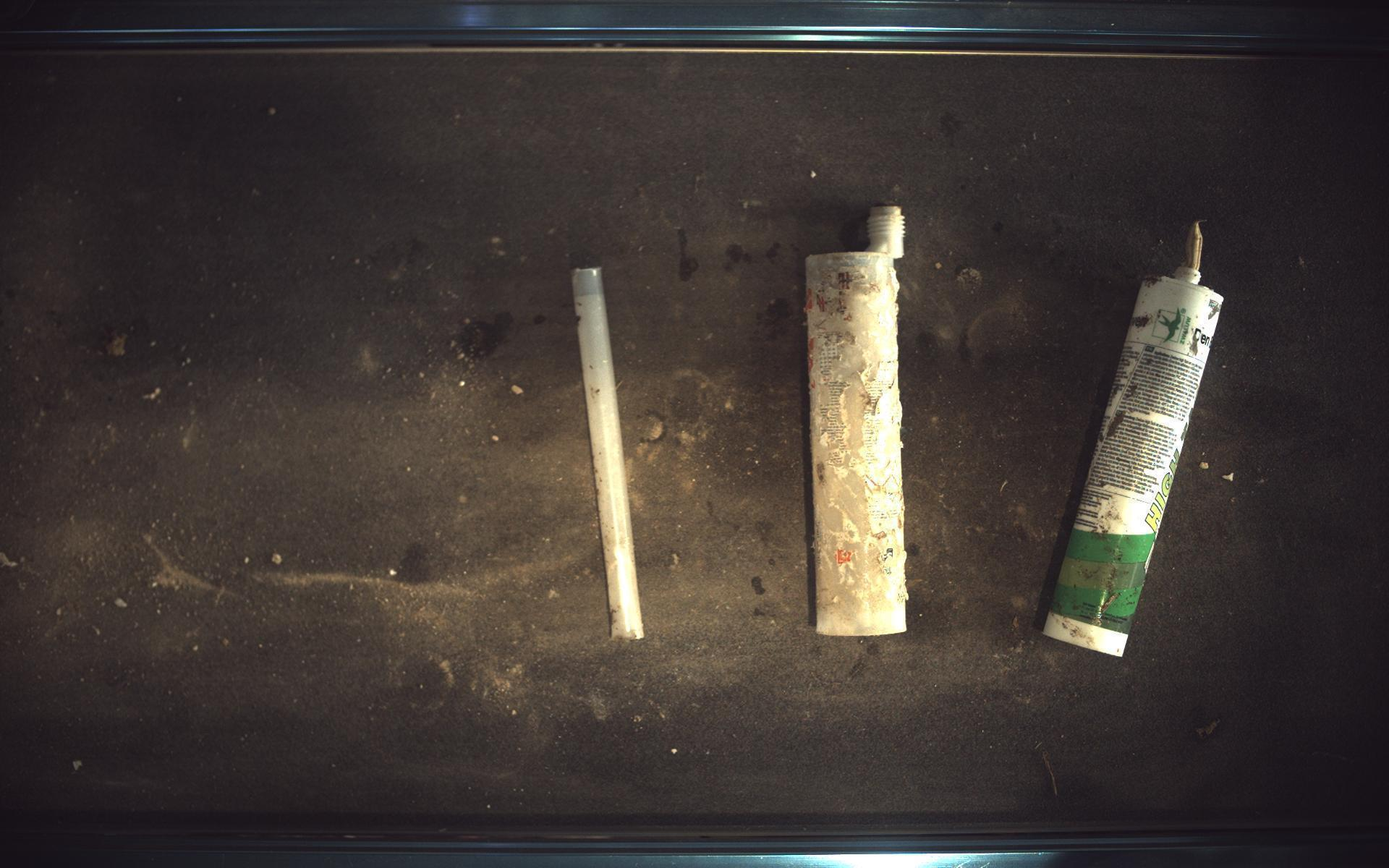plastic: (1045, 221, 1226, 658), (807, 205, 909, 637), (572, 267, 645, 640)
